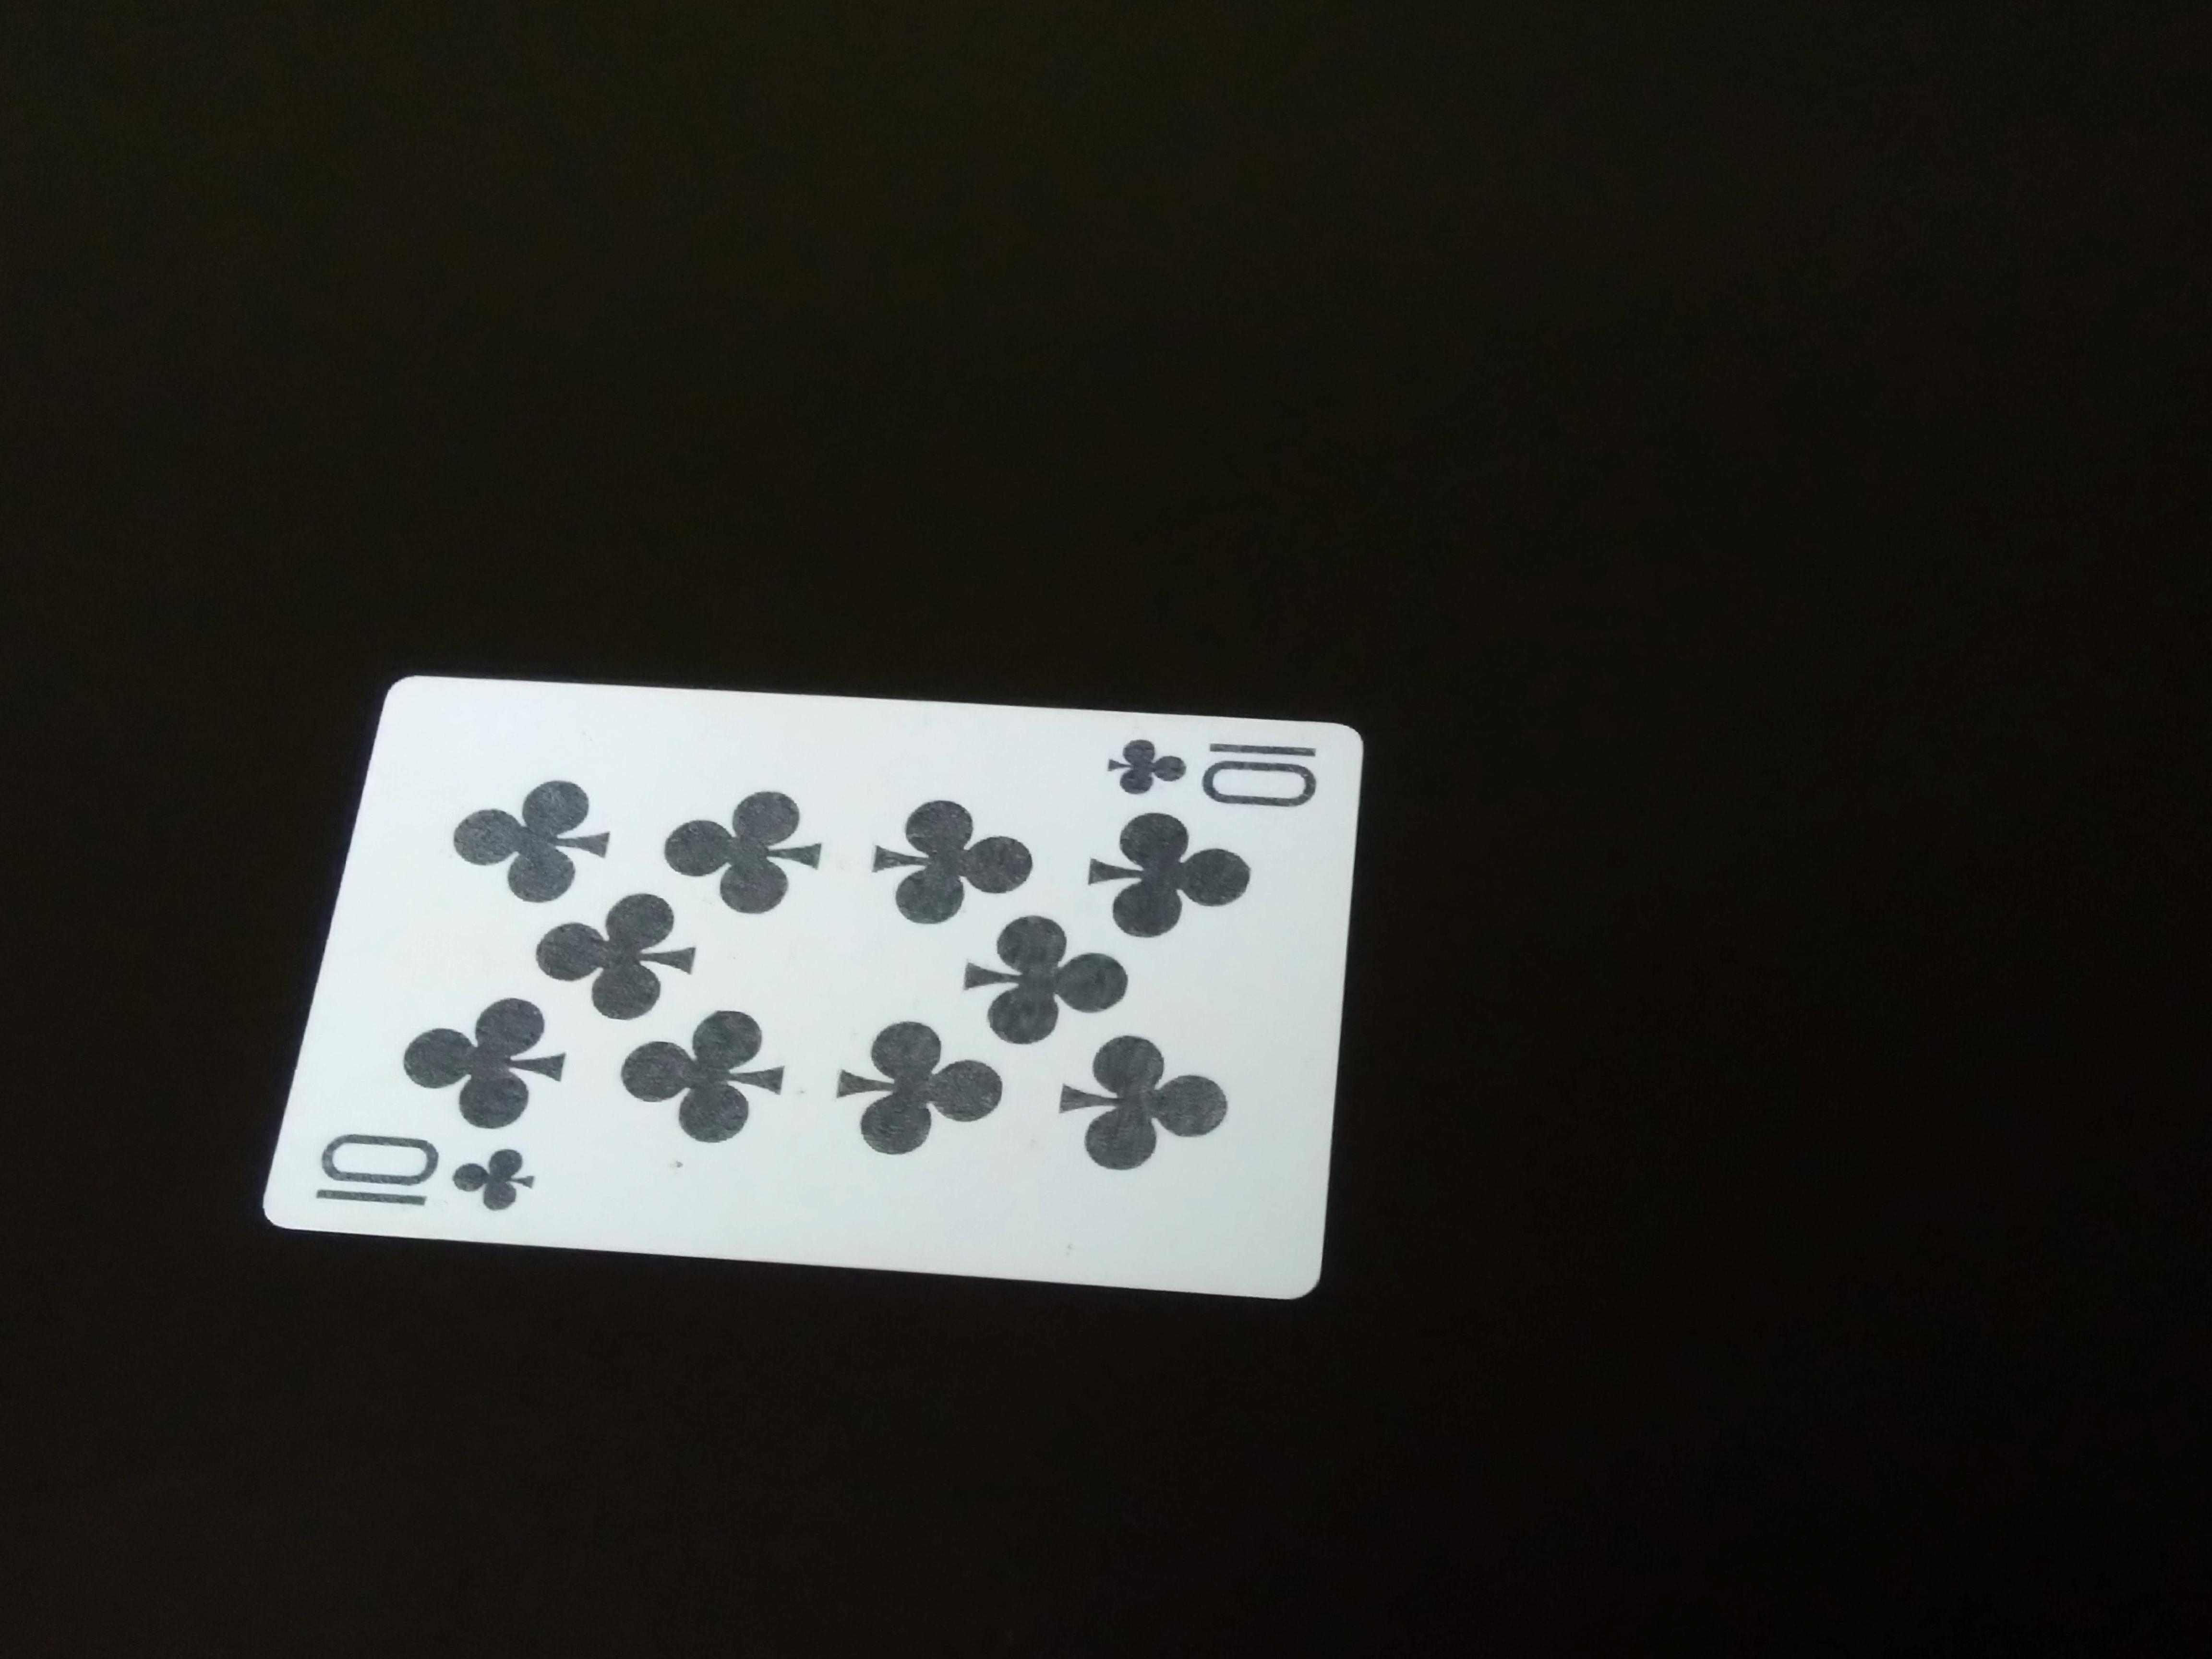10C: (308, 1126, 547, 1216)
